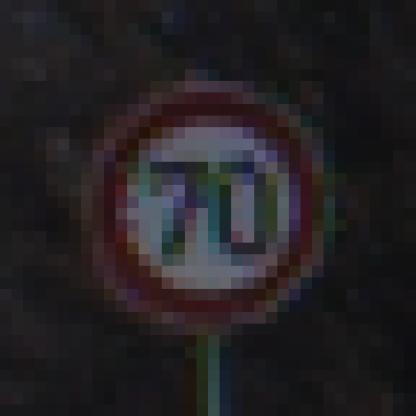Speed Limit 70: (102, 88, 327, 321)
